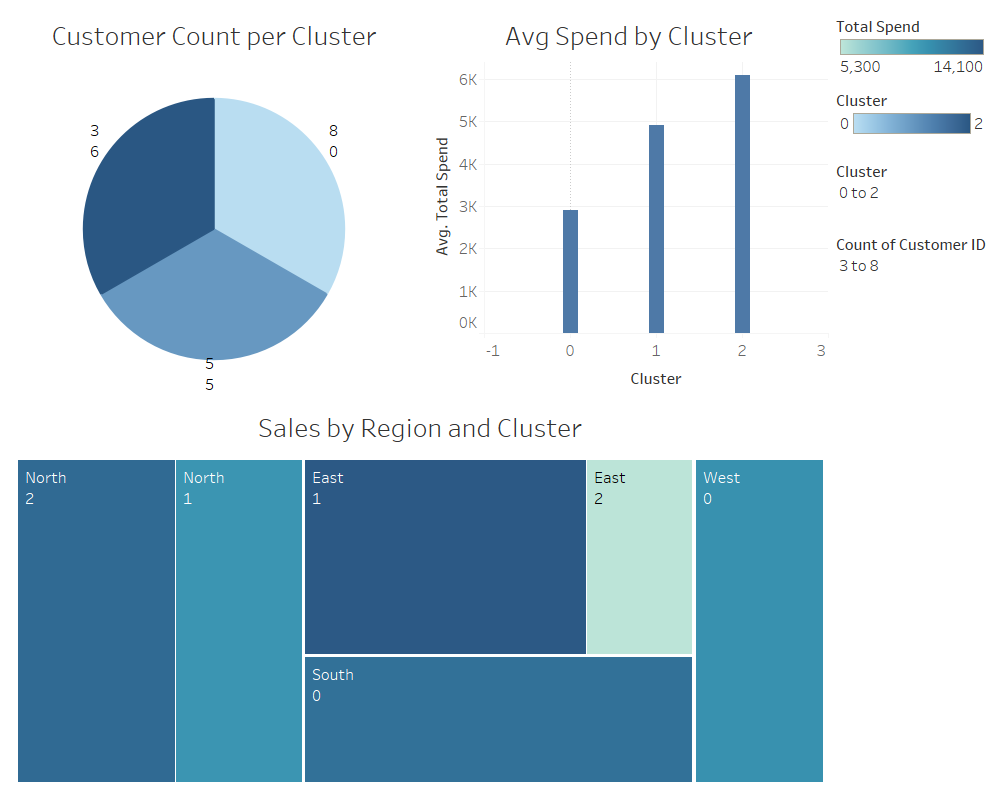

The page's visual inventory and layout, read from the dashboard file:
{"tool":"tableau","page":{"name":"Customer Segmentation Dashboard","canvas":[1000,800],"ordinal":1},"visuals":[{"type":"worksheet","title":"Customer Count per Cluster","mark":"Pie","box":[8,8,412,392]},{"type":"worksheet","title":" Avg Spend by Cluster","mark":"Bar","rows":["Total_Spend"],"cols":["Cluster"],"box":[420,8,412,392]},{"type":"legend","title":"Sales by Region and Cluster","param":"[federated.11ih5ec0t91gwg18vyc5h02emr7c].[sum:Total_Spend:qk]","box":[832,8,160,73]},{"type":"legend","title":"Customer Count per Cluster","param":"[federated.11ih5ec0t91gwg18vyc5h02emr7c].[none:Cluster:qk]","box":[832,81,160,73]},{"type":"filter","title":"Customer Count per Cluster","param":"[federated.11ih5ec0t91gwg18vyc5h02emr7c].[none:Cluster:qk]","box":[832,154,160,73]},{"type":"filter","title":"Customer Count per Cluster","param":"[federated.11ih5ec0t91gwg18vyc5h02emr7c].[cnt:Customer_ID:qk]","box":[832,227,160,73]},{"type":"worksheet","title":"Sales by Region and Cluster","mark":"Automatic","box":[8,400,824,392]}]}

Visuals, with their boxes in screenshot pixels (x1, y1, x2, y2), scaled from the page's 1000x800 canvas onto the 1000x800 screenshot:
"Customer Count per Cluster" worksheet (Pie marks): l=8, t=8, r=420, b=400
" Avg Spend by Cluster" worksheet (Bar marks): l=420, t=8, r=832, b=400
"Sales by Region and Cluster" legend: l=832, t=8, r=992, b=81
"Customer Count per Cluster" legend: l=832, t=81, r=992, b=154
"Customer Count per Cluster" filter: l=832, t=154, r=992, b=227
"Customer Count per Cluster" filter: l=832, t=227, r=992, b=300
"Sales by Region and Cluster" worksheet: l=8, t=400, r=832, b=792
